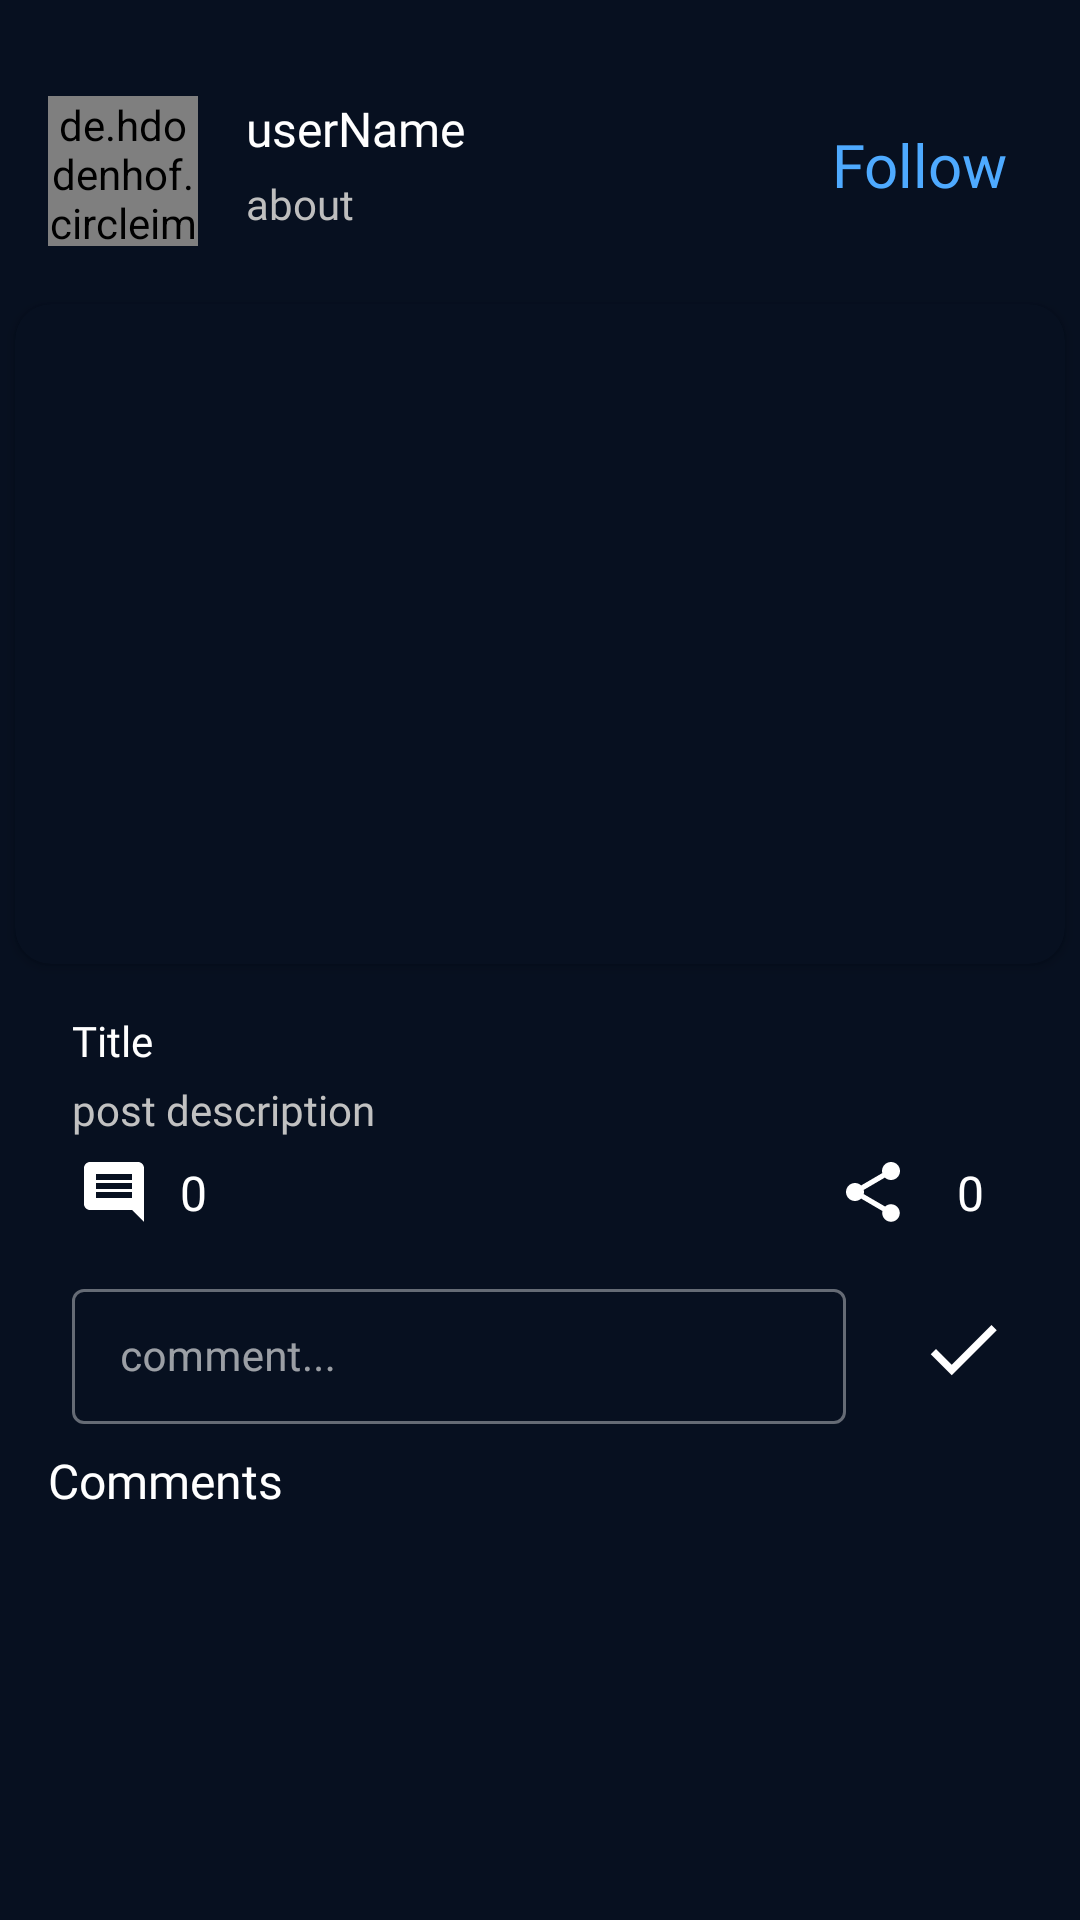

Named icons in this screenshot (1080×1920) and their centers, (x=x, y=y):
comment: (x=114, y=1192)
done: (x=964, y=1350)
share: (x=873, y=1192)
